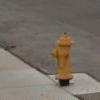Hydrant: (46, 26, 82, 94)
